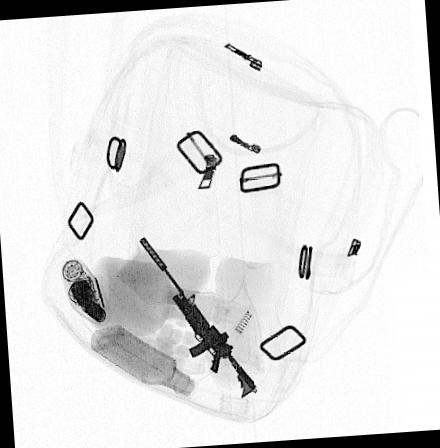Gun: (138, 234, 258, 398)
